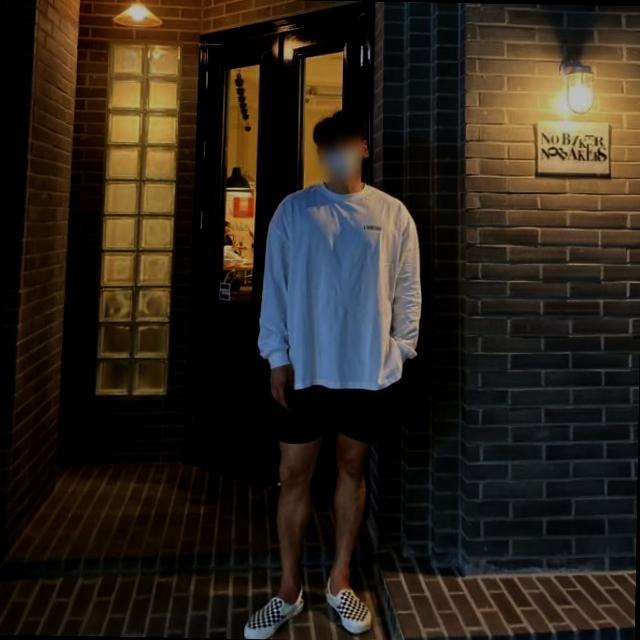longsleeve: (262, 180, 431, 392)
shortpants: (276, 376, 398, 449)
